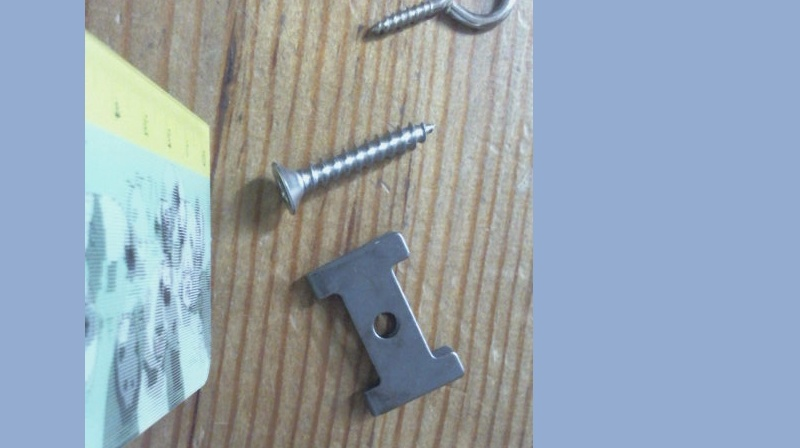O001: (357, 0, 520, 43)
O002: (301, 230, 465, 418)
S001: (269, 116, 434, 215)
